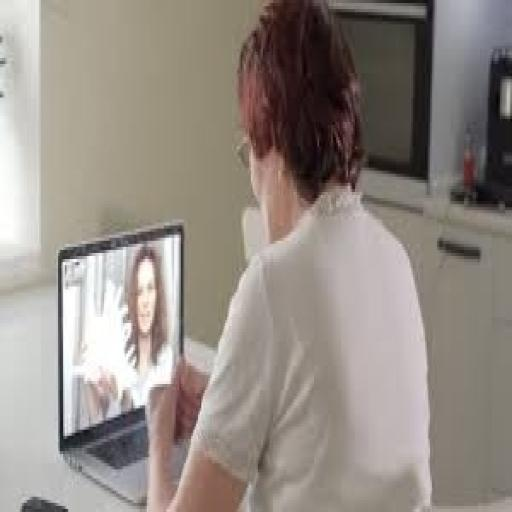using_laptop: (54, 216, 188, 503)
